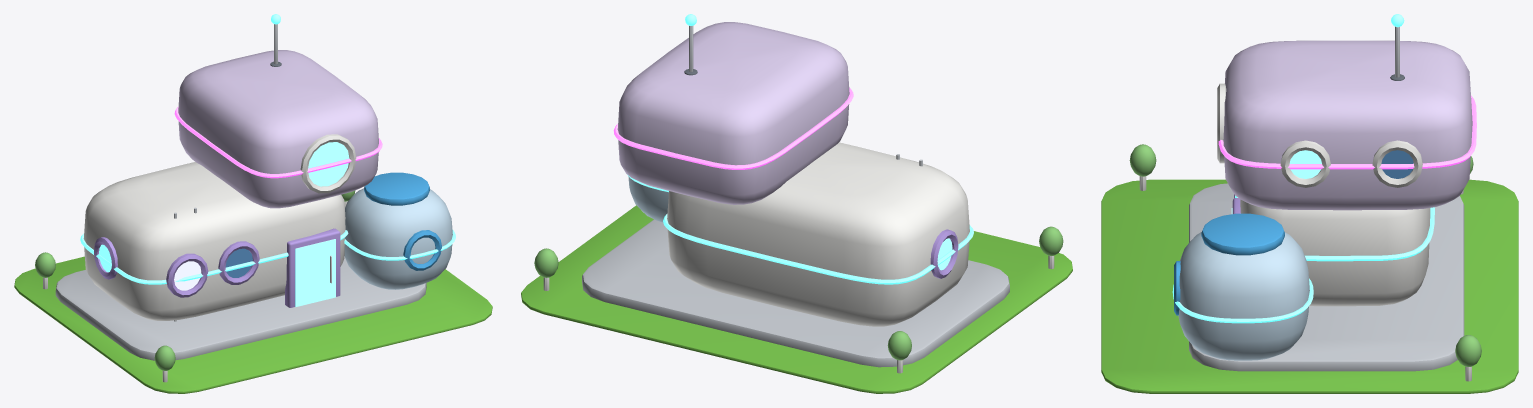
File: casa_modular_capsulas.glb
The picture shows the model from 3 angles, left to right: view 1: azimuth 30°, elevation 25°; view 2: azimuth 150°, elevation 25°; view 3: azimuth 270°, elevation 25°; orthographic projection. The views are drawn at different scales.
Parts seen in each view (by area): view 1: casa_modular_capsulas; view 2: casa_modular_capsulas; view 3: casa_modular_capsulas.
Boxes of the visible parts, bbox=[...] form: casa_modular_capsulas: bbox=[14, 14, 492, 393]; casa_modular_capsulas: bbox=[521, 14, 1072, 393]; casa_modular_capsulas: bbox=[1101, 14, 1518, 393].
Bounding box in the file's own units: 12 × 8.2 × 10.
7 materials, 1 textured.
